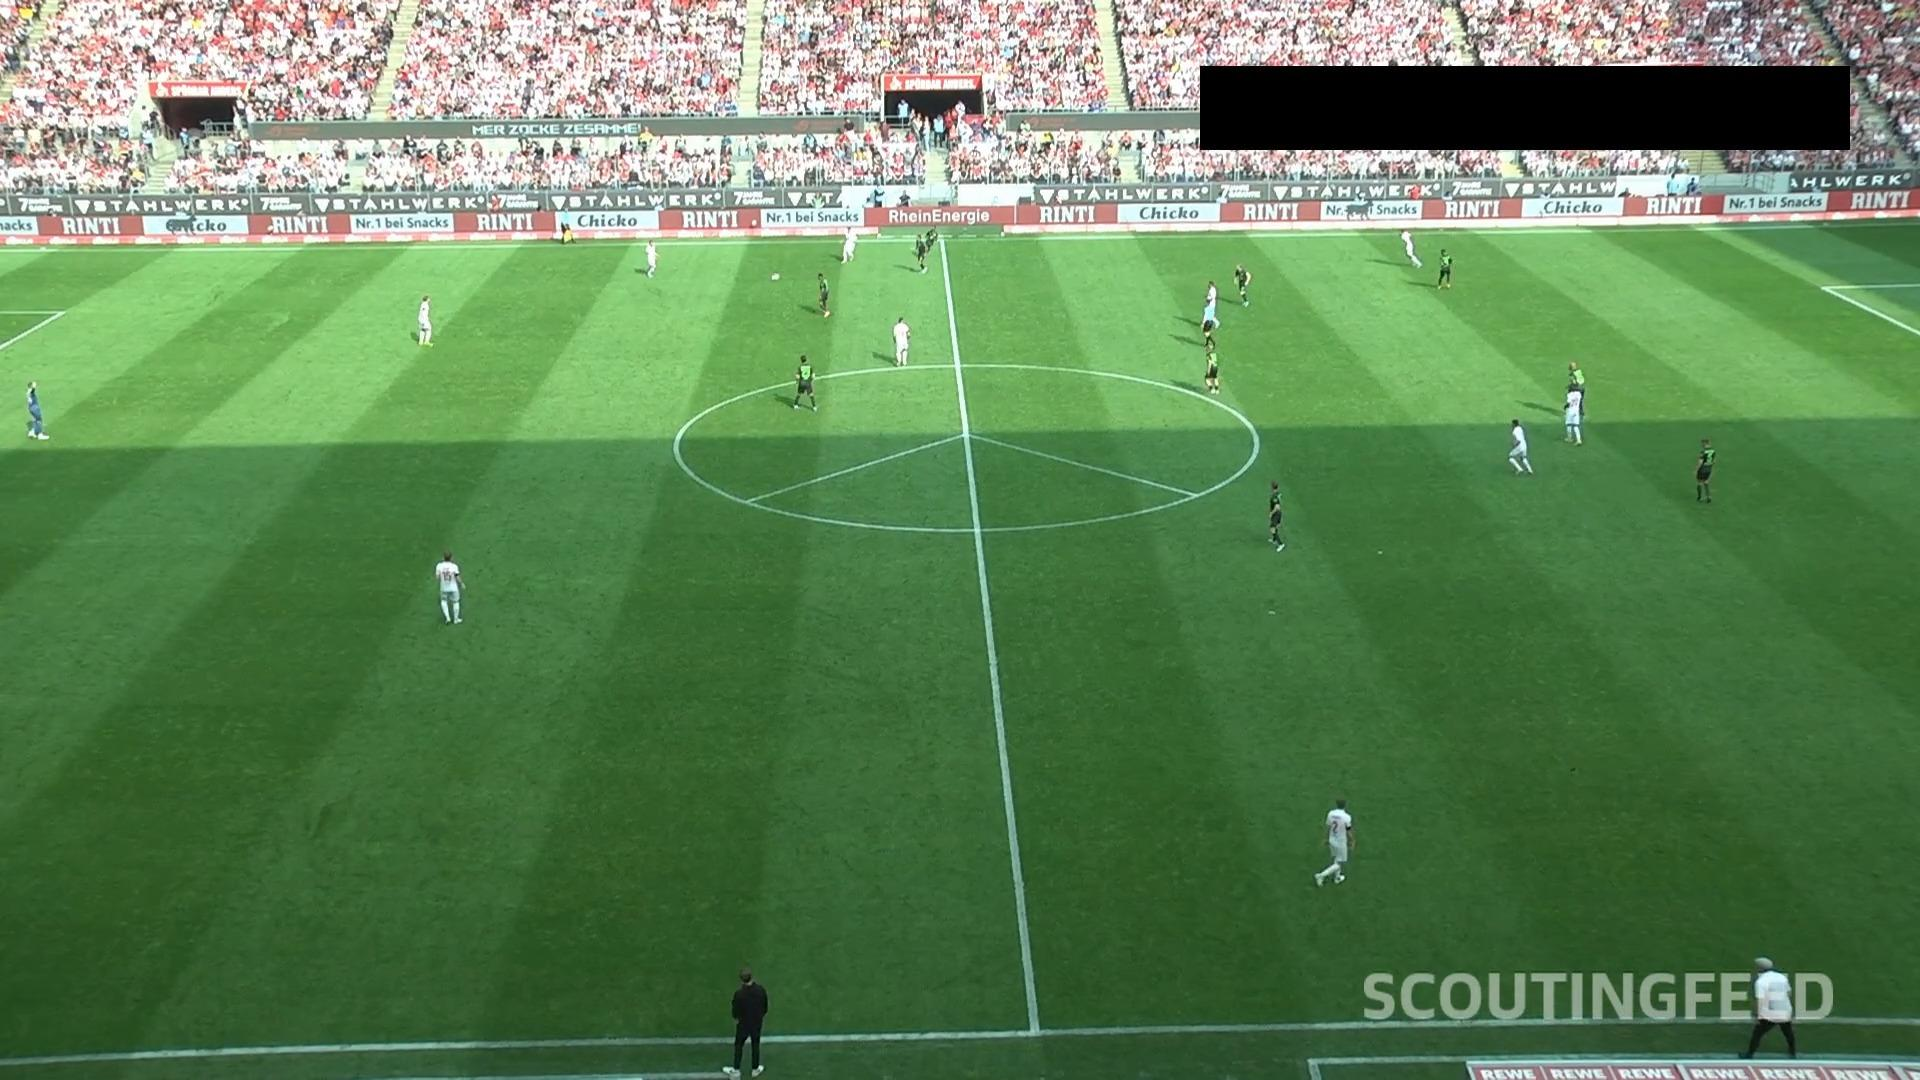ball: (770, 272, 781, 281)
